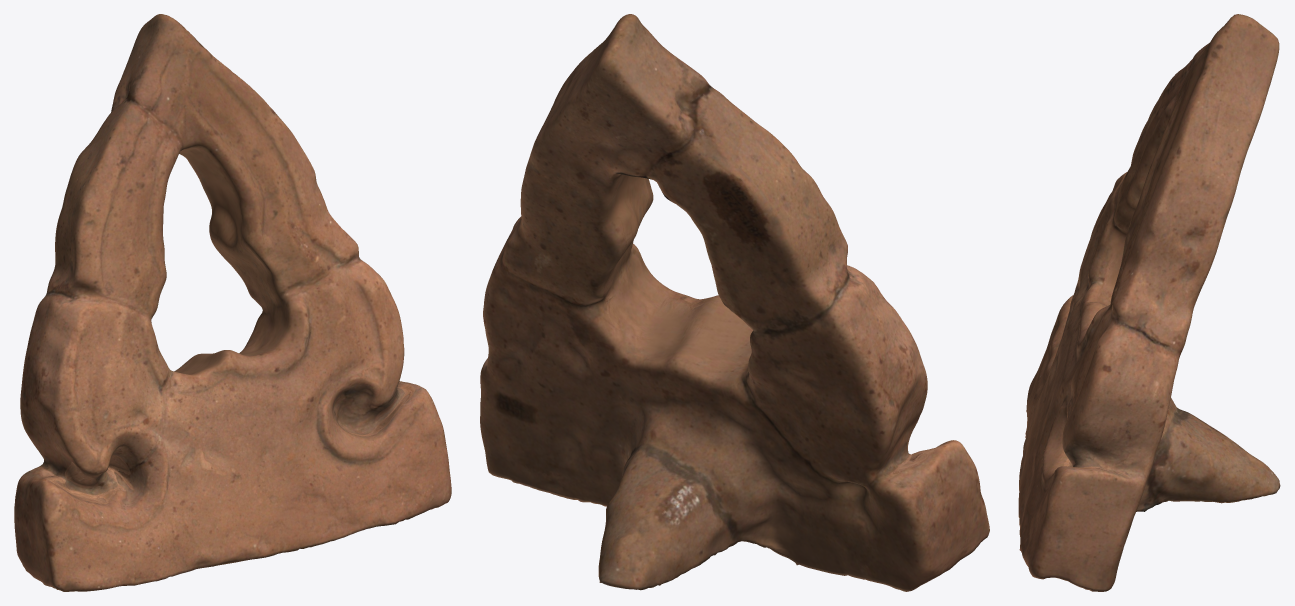
The model's file is MysonMuseum_diemmai3canh.glb.
3 renders of one model, left to right at view 1: azimuth 30°, elevation 25°; view 2: azimuth 150°, elevation 25°; view 3: azimuth 270°, elevation 25°, orthographic. The views are drawn at different scales.
Parts seen in each view (by area): view 1: MysonMuseum_diemmai3canh; view 2: MysonMuseum_diemmai3canh; view 3: MysonMuseum_diemmai3canh.
Boxes of the visible parts, x1=… form: MysonMuseum_diemmai3canh: x1=14, y1=14, x2=451, y2=591; MysonMuseum_diemmai3canh: x1=480, y1=14, x2=989, y2=591; MysonMuseum_diemmai3canh: x1=1018, y1=14, x2=1280, y2=591.
Size of the model in its own units: 0.2179 by 0.2523 by 0.1217.
1 material, 1 textured.
